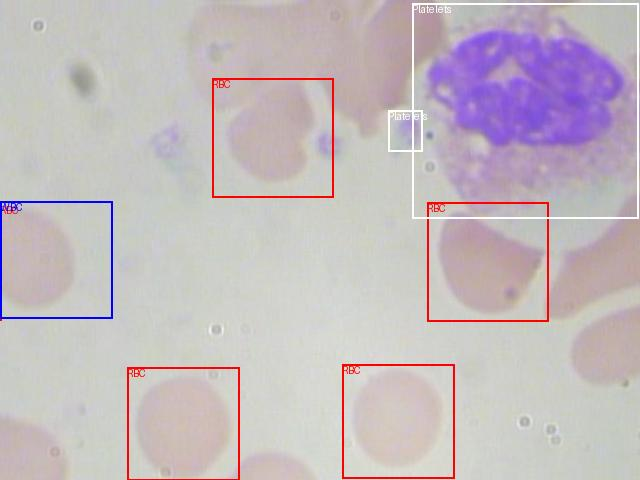Platelets: (412, 3, 638, 218), (388, 110, 422, 151)
RBC: (427, 202, 548, 321), (212, 78, 333, 197), (342, 364, 454, 478), (127, 367, 239, 480), (0, 204, 1, 320)
WBC: (0, 201, 112, 318)
